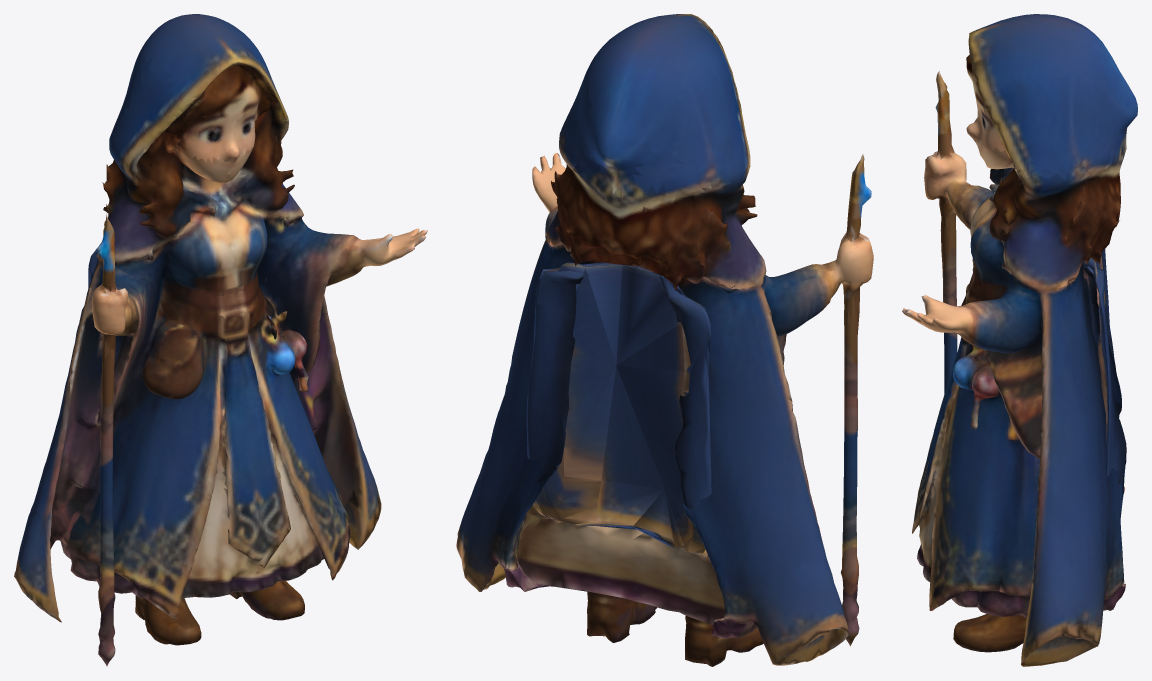
Rendered from seris.glb.
3 views of the same model, side by side, from view 1: azimuth 30°, elevation 25°; view 2: azimuth 150°, elevation 25°; view 3: azimuth 270°, elevation 25° (orthographic). The views are drawn at different scales.
Parts seen in each view (by area): view 1: Seris_SShinR, Seris_SLegR, Seris_SWeapon, Seris_SLegL, Seris_STorso, Seris_SShinL, Seris_SHead, Seris_SForeL, Seris_SForeR, Seris_SArmR, Seris_SHip, Seris_SArmL; view 2: Seris_SLegR, Seris_STorso, Seris_SShinR, Seris_SLegL, Seris_SHead, Seris_SShinL, Seris_SWeapon, Seris_SArmR, Seris_SForeR, Seris_SArmL, Seris_SForeL; view 3: Seris_SLegL, Seris_SShinL, Seris_STorso, Seris_SHead, Seris_SForeL, Seris_SArmL, Seris_SLegR, Seris_SArmR, Seris_SWeapon.
Boxes of the visible parts, <box> form: Seris_SShinR: <box>14,435,266,666</box>; Seris_SLegR: <box>32,270,276,563</box>; Seris_SWeapon: <box>68,66,180,459</box>; Seris_SLegL: <box>233,245,360,523</box>; Seris_STorso: <box>88,143,427,361</box>; Seris_SShinL: <box>230,397,381,620</box>; Seris_SHead: <box>132,14,273,163</box>; Seris_SForeL: <box>238,116,346,251</box>; Seris_SForeR: <box>102,134,199,265</box>; Seris_SArmR: <box>97,65,182,291</box>; Seris_SHip: <box>209,281,253,323</box>; Seris_SArmL: <box>257,57,287,123</box>; Seris_SLegR: <box>616,295,859,579</box>; Seris_STorso: <box>528,153,873,371</box>; Seris_SShinR: <box>601,366,859,666</box>; Seris_SLegL: <box>475,266,616,528</box>; Seris_SHead: <box>572,14,733,197</box>; Seris_SShinL: <box>456,479,668,642</box>; Seris_SWeapon: <box>712,59,838,413</box>; Seris_SArmR: <box>667,82,871,244</box>; Seris_SForeR: <box>687,166,738,294</box>; Seris_SArmL: <box>559,69,587,195</box>; Seris_SForeL: <box>541,139,571,254</box>; Seris_SLegL: <box>920,277,1126,573</box>; Seris_SShinL: <box>912,433,1125,666</box>; Seris_STorso: <box>902,137,1126,359</box>; Seris_SHead: <box>966,14,1137,169</box>; Seris_SForeL: <box>976,158,1099,316</box>; Seris_SArmL: <box>984,80,1109,204</box>; Seris_SLegR: <box>920,221,1121,497</box>; Seris_SArmR: <box>935,71,958,159</box>; Seris_SWeapon: <box>956,169,994,229</box>.
Size of the model in its own units: 1.1 by 1.7 by 0.6088.
1 material, 1 textured.
